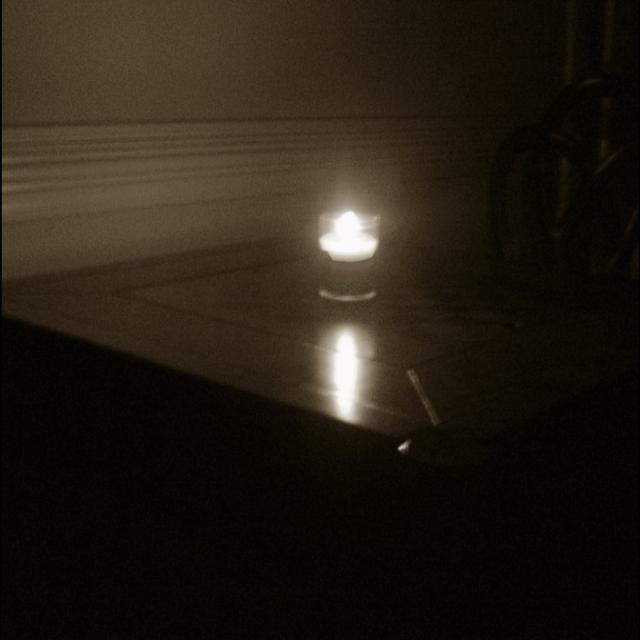Cup: (299, 195, 399, 321)
Table: (0, 222, 634, 622)
chair: (478, 45, 626, 308)
